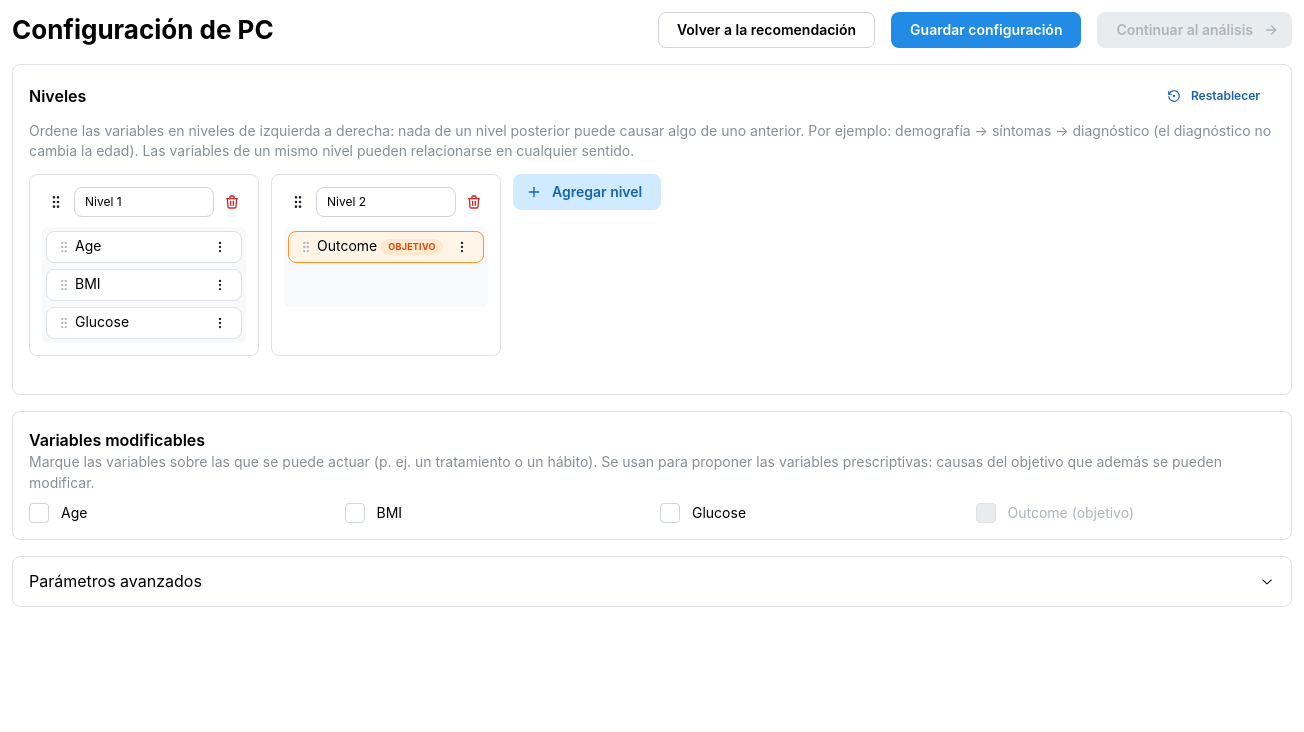
Configuración de PC › valida en vivo con el núcleo: errores por nivel, advertencia del objetivo y guardado bloqueado
This screenshot has width=1304, height=732.
Expected: the button "Guardar configuración" is enabled, [891,12,1082,48]
Expected: the checkbox labelled "Outcome (objetivo)" is disabled, [976,503,996,523]
Mover el objetivo al primer nivel deja vacío el segundo.
Click the button named "Mover Outcome".
click(462, 247)  # box [451,236,473,258]
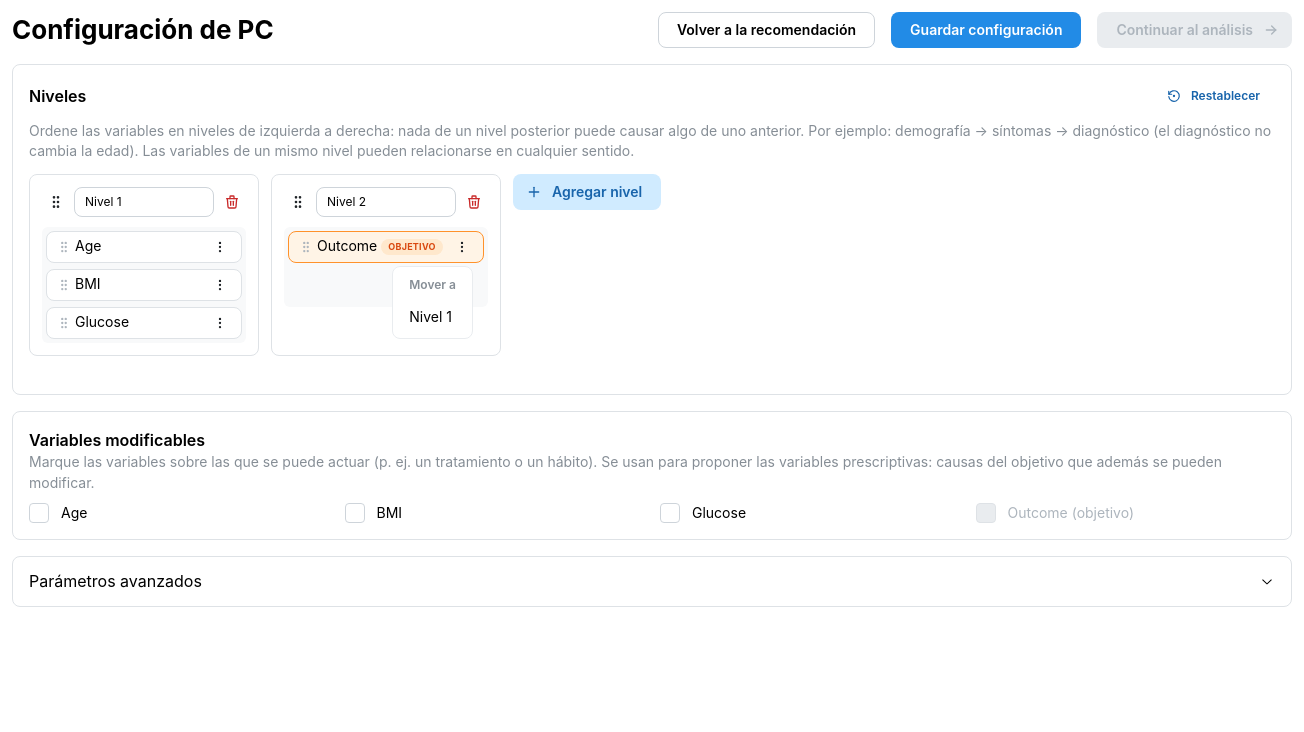
Click the menu item "Nivel 1".
click(433, 317)  # box [397,299,468,334]
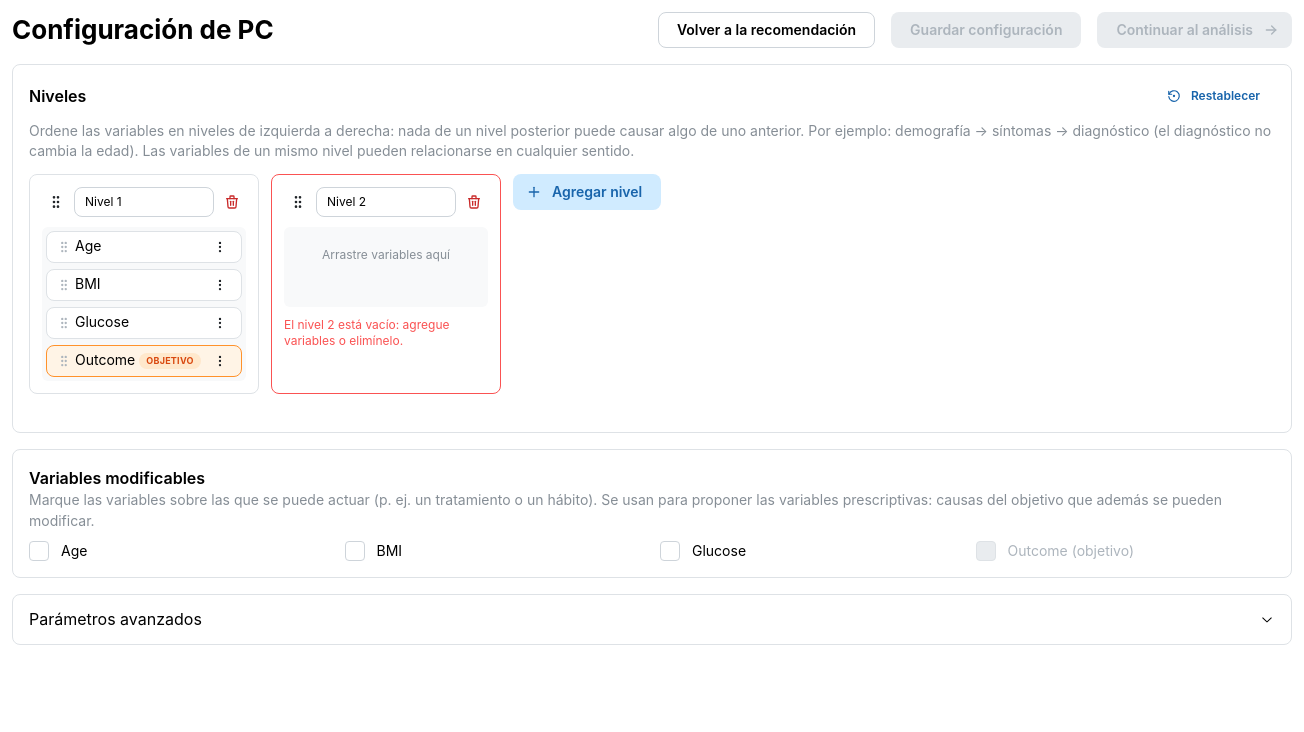
Expected: the text "El nivel 2 está vacío: agregue variables o elimínelo." is shown, [284,317,450,348]
Expected: the button "Guardar configuración" is disabled, [891,12,1082,48]
Con otra variable al final, el nivel ya no está vacío pero el objetivo queda antes: advertencia.
Click the button named "Mover BMI".
click(220, 285)  # box [209,274,231,296]
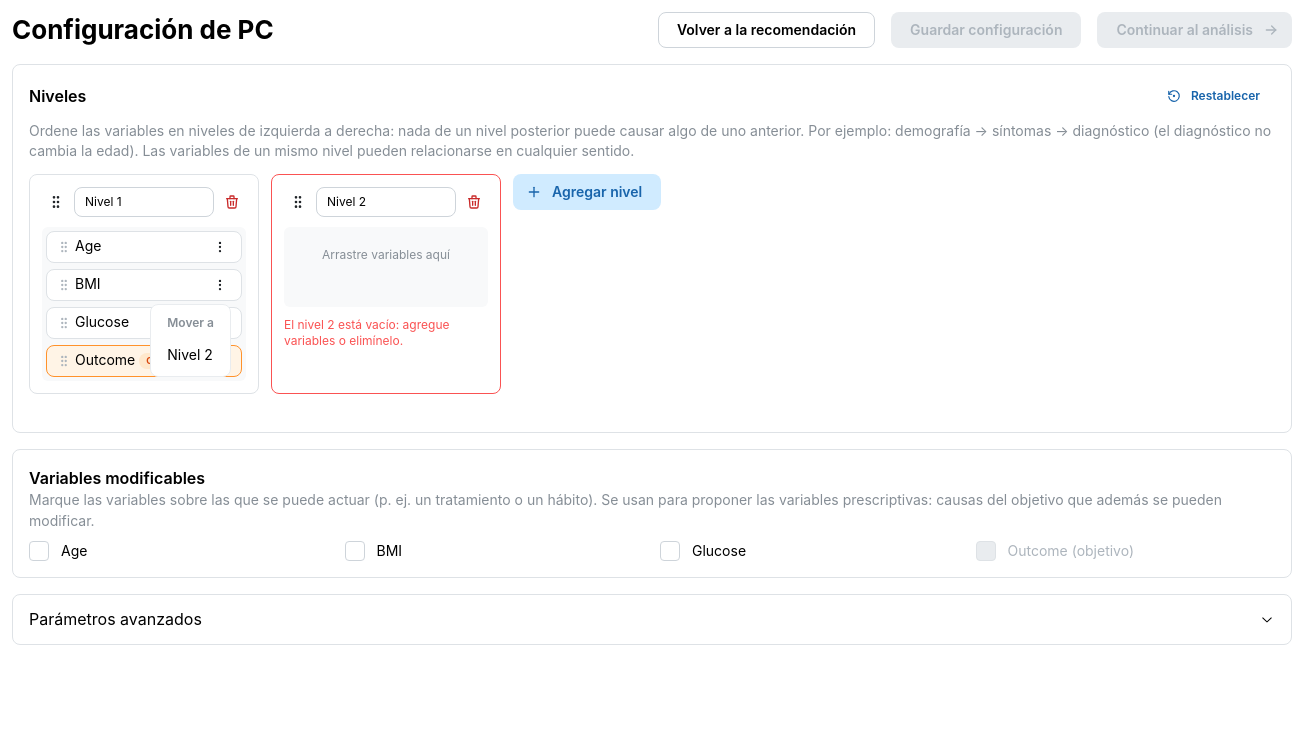
Click the menu item "Nivel 2".
click(191, 355)  # box [155,337,226,372]
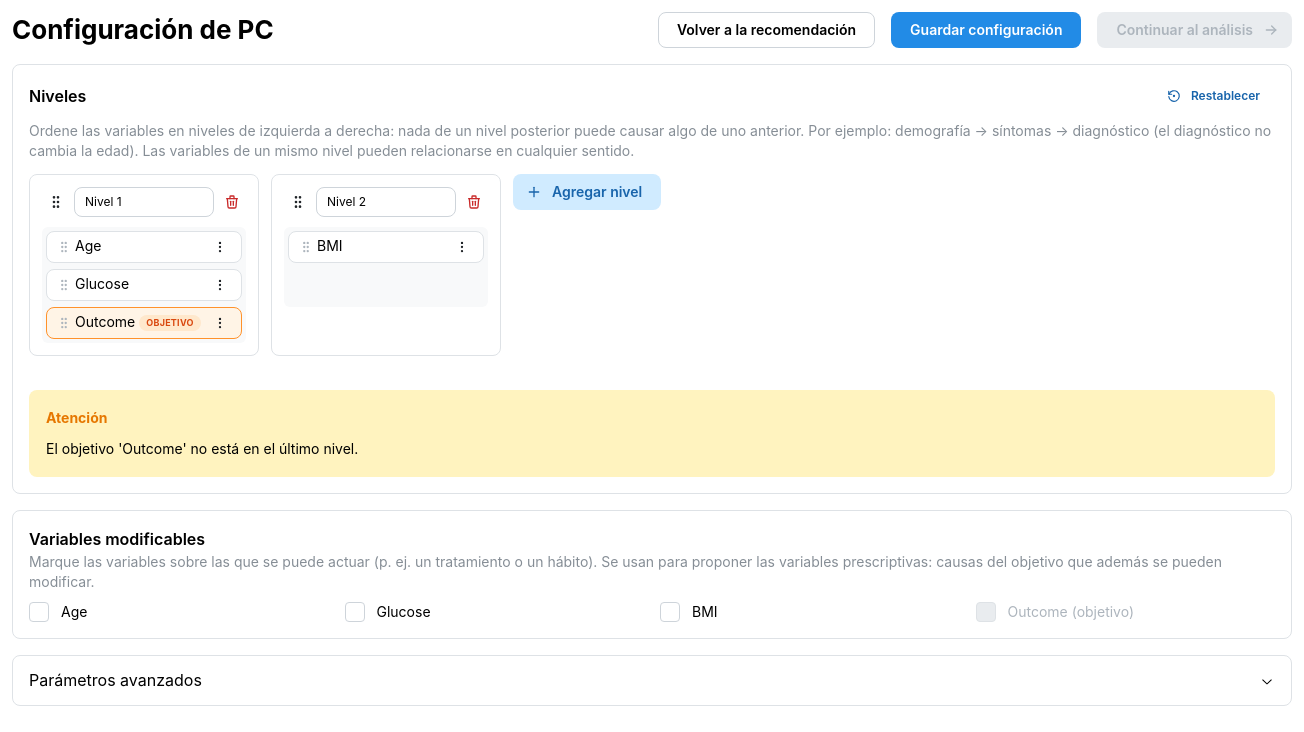
Expected: the text "El objetivo 'Outcome' no está en el último nivel." is shown, [46,440,358,457]
Expected: the button "Guardar configuración" is enabled, [891,12,1082,48]
